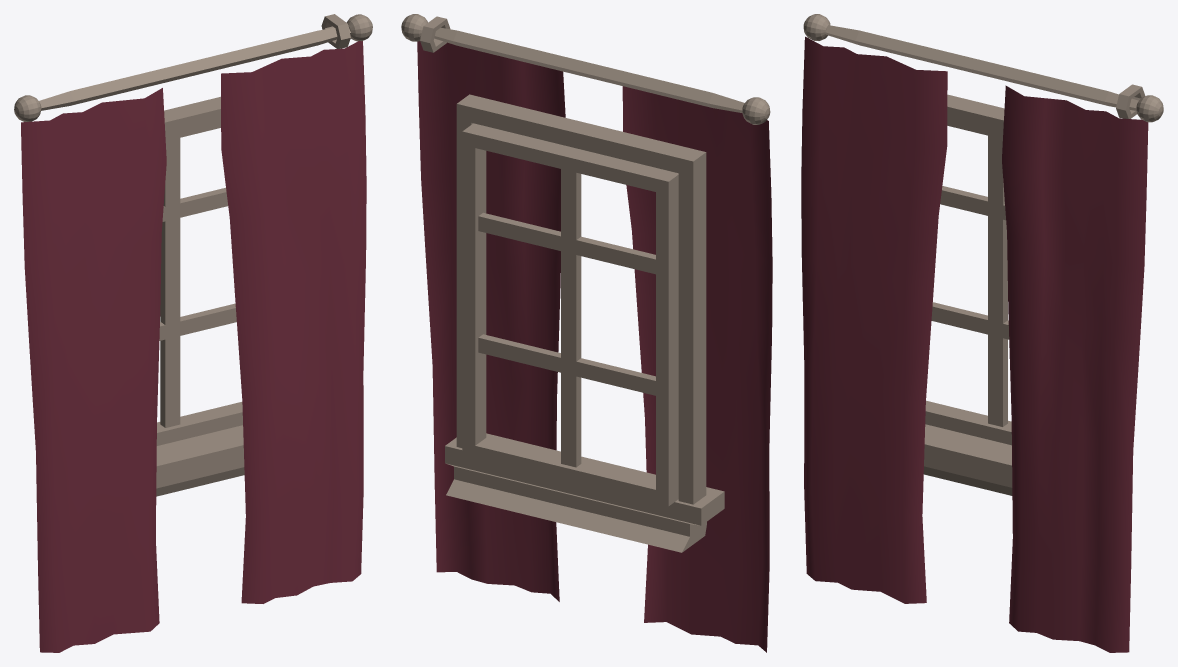
The model's file is WindowCurtains.fbx.
3 renders of one model, left to right at view 1: azimuth 30°, elevation 25°; view 2: azimuth 150°, elevation 25°; view 3: azimuth 330°, elevation 25°, orthographic. The views are drawn at different scales.
Parts seen in each view (by area): view 1: WindowCurtains; view 2: WindowCurtains; view 3: WindowCurtains.
Part boxes in pixels (x1,y1,x2,y2): WindowCurtains: (14, 14, 372, 652); WindowCurtains: (401, 14, 772, 652); WindowCurtains: (801, 14, 1163, 652).
Size of the model in its own units: 292 by 430 by 61.76.
